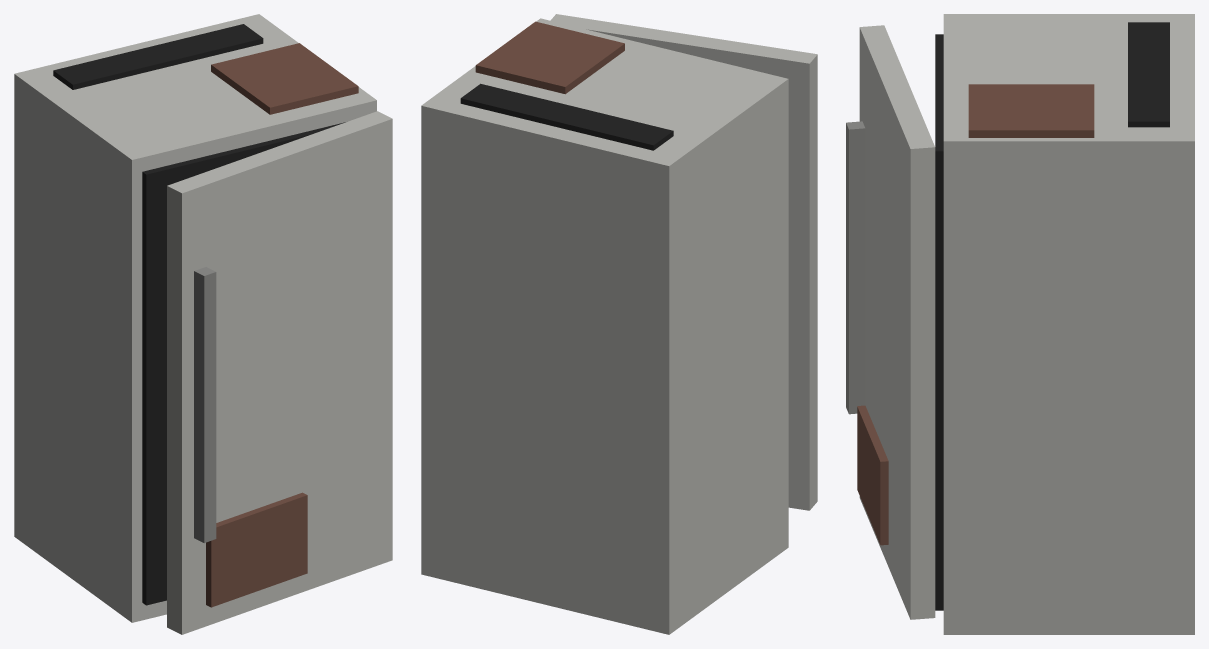
Rendered from junk_refrigerator.obj.
The picture shows the model from 3 angles, left to right: view 1: azimuth 30°, elevation 25°; view 2: azimuth 150°, elevation 25°; view 3: azimuth 270°, elevation 25°; orthographic projection. The views are drawn at different scales.
Parts seen in each view (by area): view 1: junk_refrigerator_2, junk_refrigerator_0, junk_refrigerator_1, junk_refrigerator_4, junk_refrigerator_3, junk_refrigerator_6, junk_refrigerator_5; view 2: junk_refrigerator_0, junk_refrigerator_2, junk_refrigerator_6, junk_refrigerator_5; view 3: junk_refrigerator_0, junk_refrigerator_2, junk_refrigerator_6, junk_refrigerator_3, junk_refrigerator_1, junk_refrigerator_5, junk_refrigerator_4.
Boxes of the visible parts, left/top/right/bottom form: junk_refrigerator_2: left=167, top=111, right=392, bottom=634; junk_refrigerator_0: left=14, top=14, right=376, bottom=622; junk_refrigerator_1: left=142, top=122, right=345, bottom=605; junk_refrigerator_4: left=206, top=492, right=307, bottom=607; junk_refrigerator_3: left=194, top=267, right=216, bottom=542; junk_refrigerator_6: left=211, top=43, right=358, bottom=114; junk_refrigerator_5: left=53, top=24, right=263, bottom=89; junk_refrigerator_0: left=421, top=18, right=788, bottom=634; junk_refrigerator_2: left=550, top=14, right=817, bottom=510; junk_refrigerator_6: left=475, top=21, right=624, bottom=94; junk_refrigerator_5: left=460, top=83, right=673, bottom=150; junk_refrigerator_0: left=943, top=14, right=1194, bottom=634; junk_refrigerator_2: left=859, top=25, right=935, bottom=619; junk_refrigerator_6: left=968, top=84, right=1094, bottom=137; junk_refrigerator_3: left=846, top=121, right=865, bottom=414; junk_refrigerator_1: left=935, top=34, right=943, bottom=610; junk_refrigerator_5: left=1128, top=22, right=1169, bottom=127; junk_refrigerator_4: left=857, top=405, right=888, bottom=545.
Size of the model in its own units: 0.7204 by 1.32 by 0.8331.
